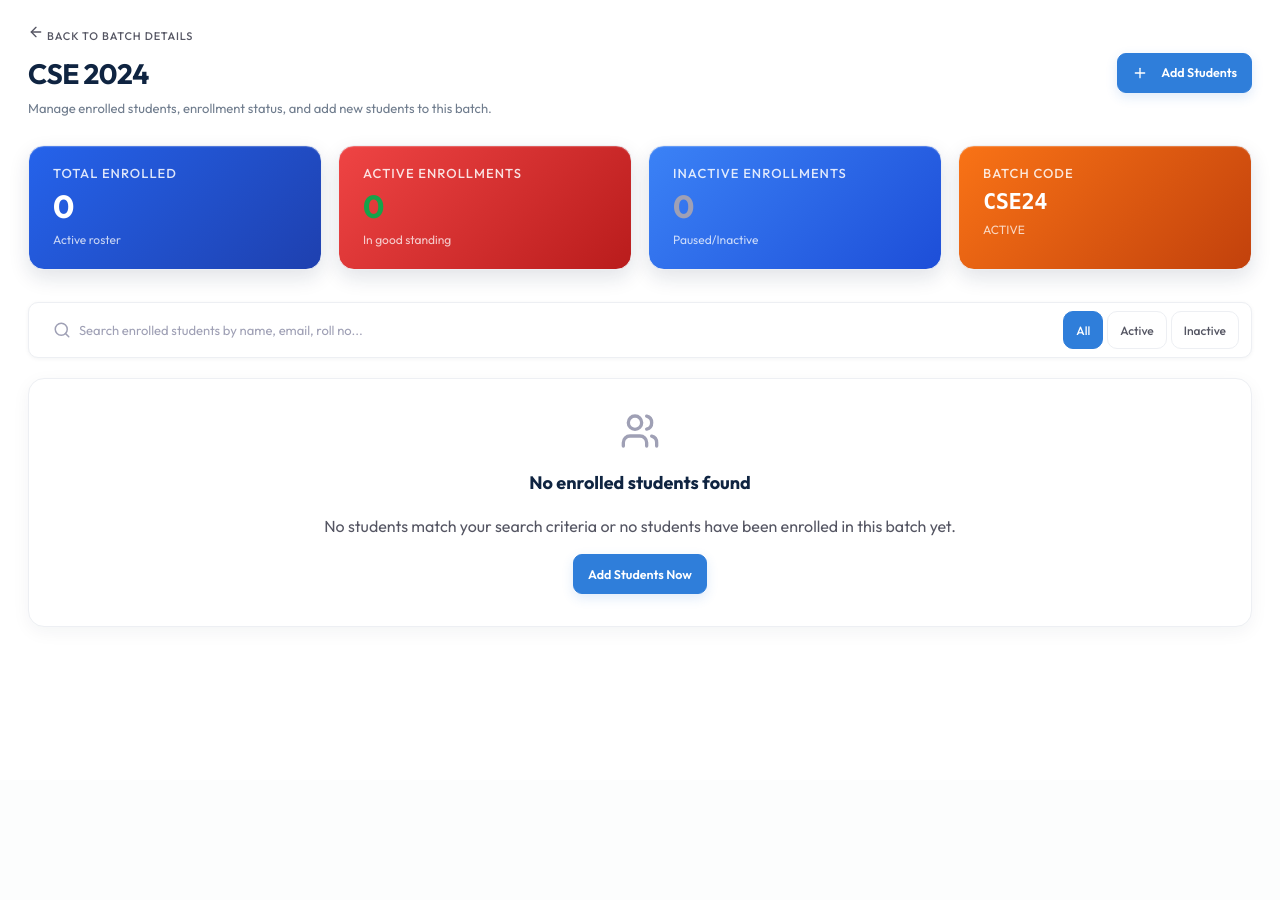
Scenario: the selector shows the academic batch and current year
Click the button "Add Students" at (1185, 72), box x1=1117 y1=52 x2=1252 y2=92
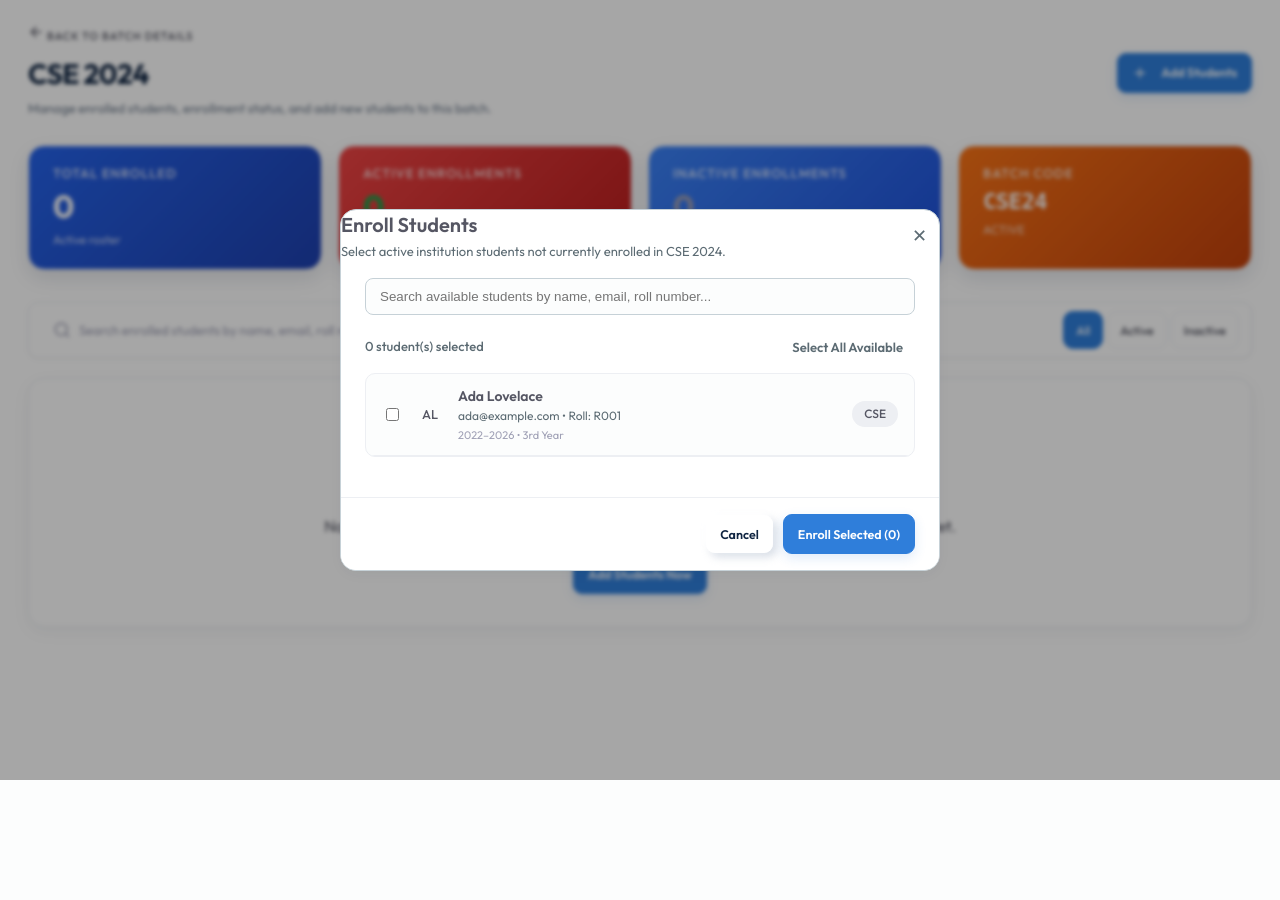
Now the heading "Enroll Students" is shown, box x1=341 y1=212 x2=477 y2=237
Now the text "2022–2026 • 3rd Year" is shown, box x1=458 y1=428 x2=564 y2=442
